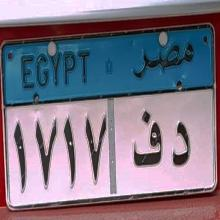1: (59, 115, 80, 191), (11, 118, 30, 194)
7: (84, 108, 108, 182), (33, 116, 57, 185)
daal: (168, 108, 192, 179)
faa: (130, 111, 162, 170)
